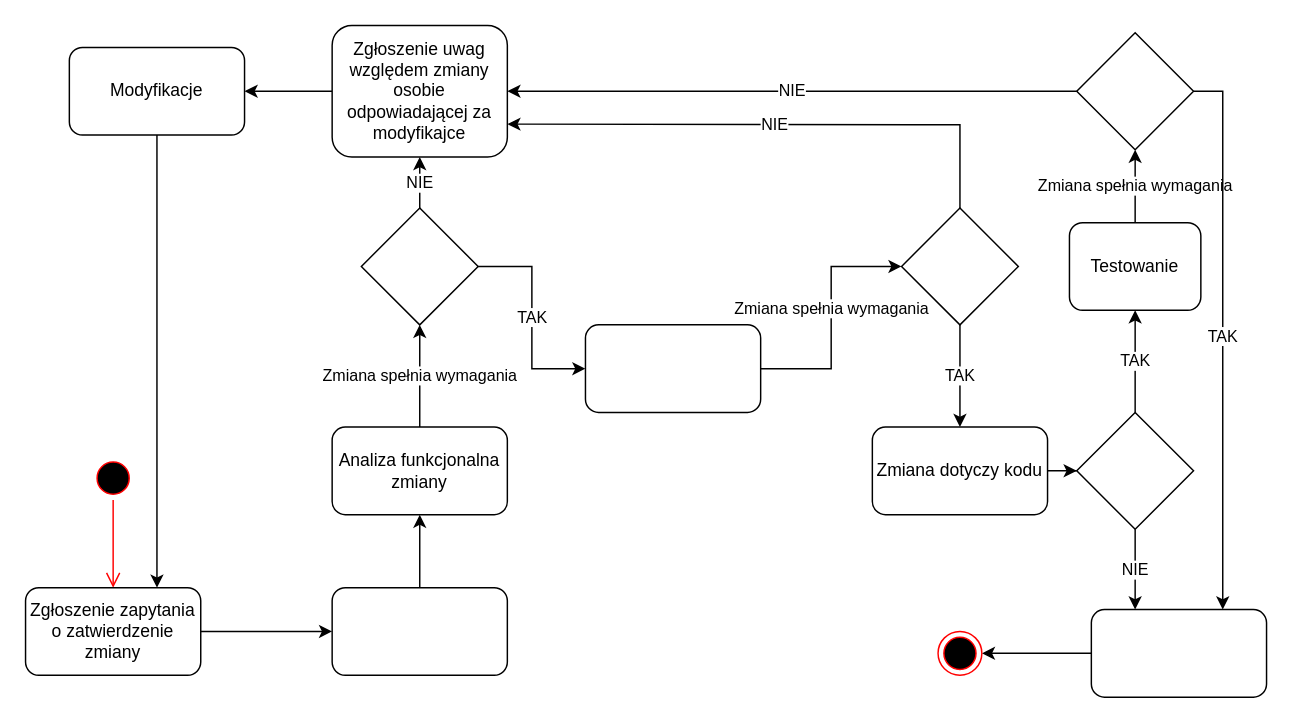
Image size: 1292x723. Some labels were removed from this diagram. Each missing label, with the centre of its shape:
"Analiza jakościowa zmiany" belongs at pixel 672 367.
"Przyjęcie zapytania" belongs at pixel 419 630.
"Zatwierdzenie, wprowadzenie, dokumentacja zmiany" belongs at pixel 1178 652.
